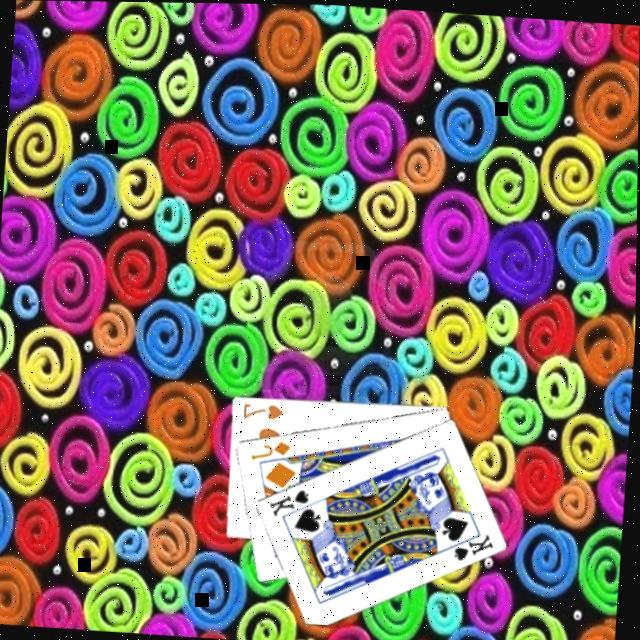7H: (242, 398, 290, 422)
JD: (250, 433, 296, 462)
KS: (446, 524, 500, 564), (268, 482, 315, 520)
